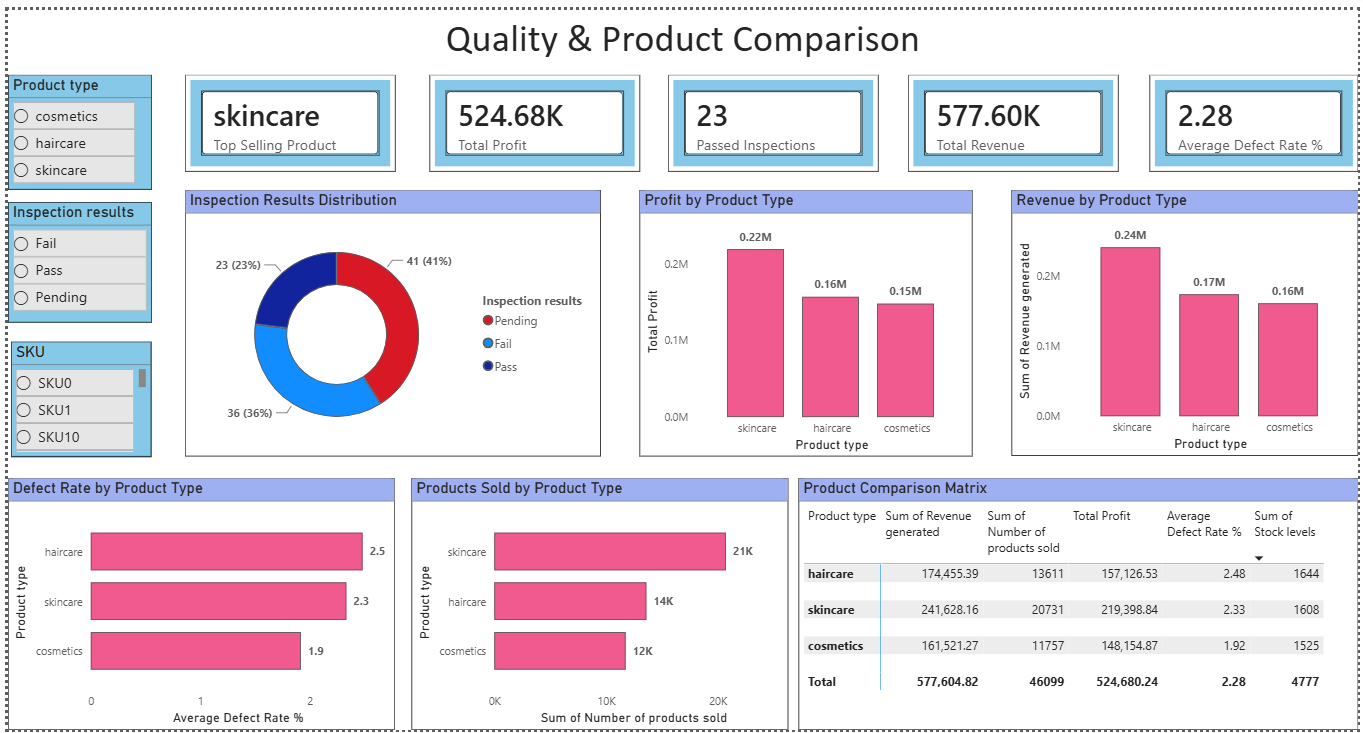

What the dashboard file says about the page in this screenshot:
{"tool":"powerbi","page":{"name":"Page 5","canvas":[1500,800],"ordinal":4},"visuals":[{"type":"cardVisual","fields":{"Data":["project_supply_chain_data supply_chain_data.Top Selling Product"]},"box":[196,72,234,108],"z":0},{"type":"cardVisual","fields":{"Data":["project_supply_chain_data supply_chain_data.Total Revenue"]},"box":[1000,72,234,108],"z":1},{"type":"cardVisual","fields":{"Data":["project_supply_chain_data supply_chain_data.Profit"]},"box":[468,72,234,108],"z":2},{"type":"cardVisual","fields":{"Data":["project_supply_chain_data supply_chain_data.Average Defect Rate %"]},"box":[1268,72,232,108],"z":4},{"type":"cardVisual","fields":{"Data":["project_supply_chain_data supply_chain_data.Passed Inspections"]},"box":[734,72,234,108],"z":5},{"type":"barChart","title":"Defect Rate by Product Type","fields":{"Category":["project_supply_chain_data supply_chain_data.Product type"],"Y":["project_supply_chain_data supply_chain_data.Average Defect Rate %"]},"box":[0,520,430,280],"z":7},{"type":"donutChart","title":"Inspection Results Distribution","fields":{"Category":["project_supply_chain_data supply_chain_data.Inspection results"],"Y":["CountNonNull(project_supply_chain_data supply_chain_data.SKU)"]},"box":[196,200,462,296],"z":8},{"type":"columnChart","title":"Revenue by Product Type","fields":{"Category":["project_supply_chain_data supply_chain_data.Product type"],"Y":["Sum(project_supply_chain_data supply_chain_data.Revenue generated)"]},"box":[1115,200,385,295],"z":9},{"type":"barChart","title":"Products Sold by Product Type","fields":{"Category":["project_supply_chain_data supply_chain_data.Product type"],"Y":["Sum(project_supply_chain_data supply_chain_data.Number of products sold)"]},"box":[448.3,520,418.3,280],"z":10},{"type":"columnChart","title":"Profit by Product Type","fields":{"Category":["project_supply_chain_data supply_chain_data.Product type"],"Y":["project_supply_chain_data supply_chain_data.Total Profit"]},"box":[702,200,370,296],"z":11},{"type":"pivotTable","title":"Product Comparison Matrix","fields":{"Rows":["project_supply_chain_data supply_chain_data.Product type"],"Values":["Sum(project_supply_chain_data supply_chain_data.Revenue generated)","Sum(project_supply_chain_data supply_chain_data.Number of products sold)","project_supply_chain_data supply_chain_data.Total Profit","project_supply_chain_data supply_chain_data.Average Defect Rate %","Sum(project_supply_chain_data supply_chain_data.Stock levels)"]},"box":[878.3,520,621.7,280],"z":12},{"type":"listSlicer","fields":{"Values":["project_supply_chain_data supply_chain_data.Product type"]},"box":[0,72,160,128],"z":13},{"type":"listSlicer","fields":{"Values":["project_supply_chain_data supply_chain_data.Inspection results"]},"box":[0,214,160,134],"z":14},{"type":"listSlicer","fields":{"Values":["project_supply_chain_data supply_chain_data.SKU"]},"box":[4,368,156,128],"z":15},{"type":"textbox","box":[0,0,1500,72],"z":16}]}

Visuals, with their boxes in screenshot pixels (x1, y1, x2, y2), scaled from the page's 1500x800 canvas onto the 1363x733 screenshot:
cardVisual - project_supply_chain_data supply_chain_data.Top Selling Product: BBox(178, 66, 391, 165)
cardVisual - project_supply_chain_data supply_chain_data.Total Revenue: BBox(909, 66, 1121, 165)
cardVisual - project_supply_chain_data supply_chain_data.Profit: BBox(425, 66, 638, 165)
cardVisual - project_supply_chain_data supply_chain_data.Average Defect Rate %: BBox(1152, 66, 1362, 165)
cardVisual - project_supply_chain_data supply_chain_data.Passed Inspections: BBox(667, 66, 880, 165)
"Defect Rate by Product Type" barChart: BBox(0, 476, 391, 732)
"Inspection Results Distribution" donutChart: BBox(178, 183, 598, 454)
"Revenue by Product Type" columnChart: BBox(1013, 183, 1362, 454)
"Products Sold by Product Type" barChart: BBox(407, 476, 787, 732)
"Profit by Product Type" columnChart: BBox(638, 183, 974, 454)
"Product Comparison Matrix" pivotTable: BBox(798, 476, 1362, 732)
listSlicer - project_supply_chain_data supply_chain_data.Product type: BBox(0, 66, 145, 183)
listSlicer - project_supply_chain_data supply_chain_data.Inspection results: BBox(0, 196, 145, 319)
listSlicer - project_supply_chain_data supply_chain_data.SKU: BBox(4, 337, 145, 454)
textbox: BBox(0, 0, 1362, 66)
